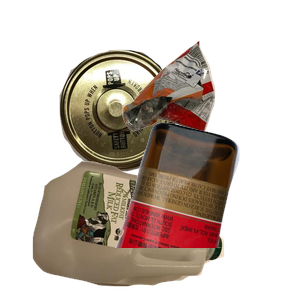glass: (113, 120, 300, 300)
metal: (57, 47, 227, 211)
plastic: (30, 159, 247, 300)
trash: (120, 38, 300, 164)
